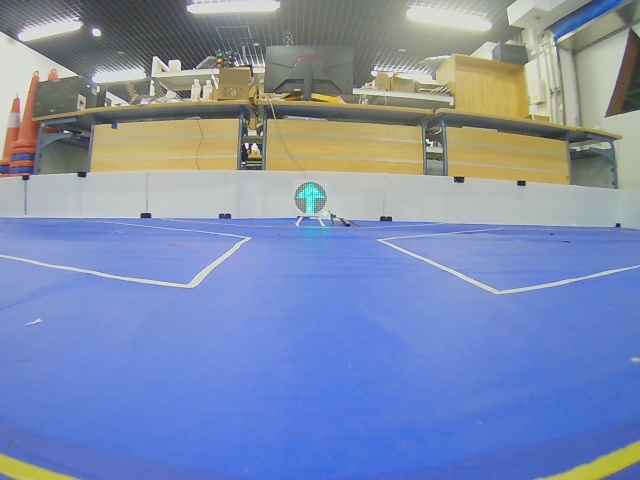straight_green: (294, 182, 327, 215)
